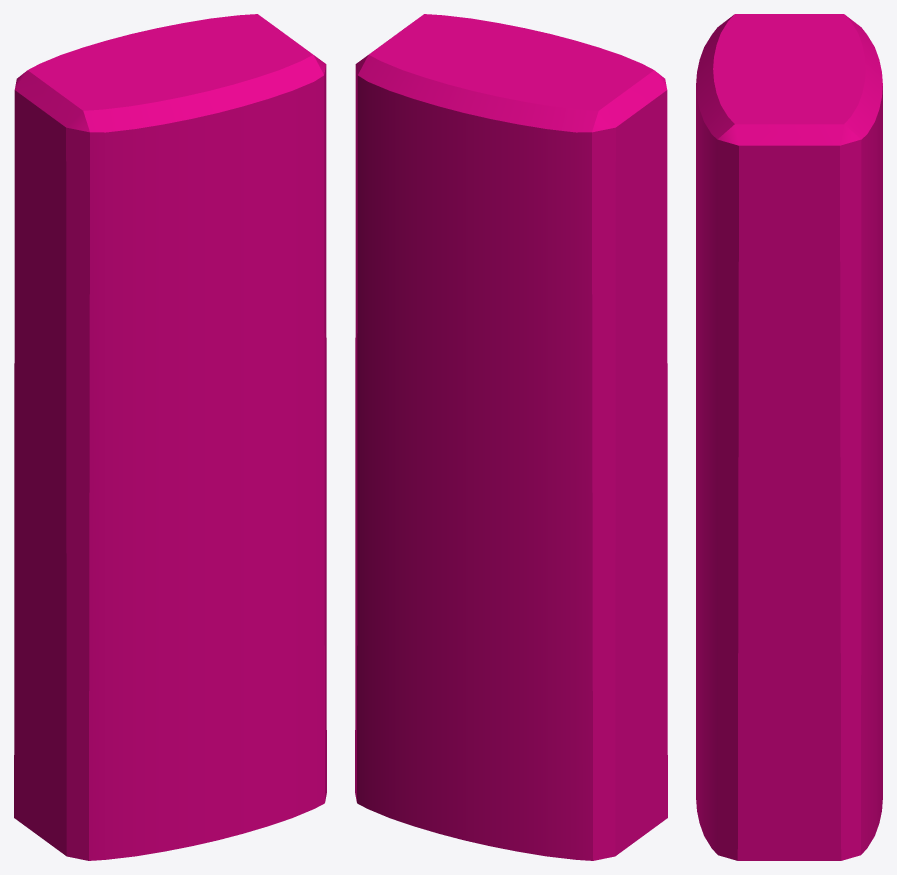
Rendered from Building_02_Red.fbx.
The picture shows the model from 3 angles, left to right: view 1: azimuth 30°, elevation 25°; view 2: azimuth 150°, elevation 25°; view 3: azimuth 270°, elevation 25°; orthographic projection.
Visible parts, largest first — view 1: Building02_Red; view 2: Building02_Red; view 3: Building02_Red.
Part boxes in pixels (x1=…): Building02_Red: x1=14, y1=14, x2=326, y2=860; Building02_Red: x1=355, y1=14, x2=667, y2=860; Building02_Red: x1=696, y1=14, x2=882, y2=860.
Bounding box in the file's own units: 1435 × 3918 × 910.
